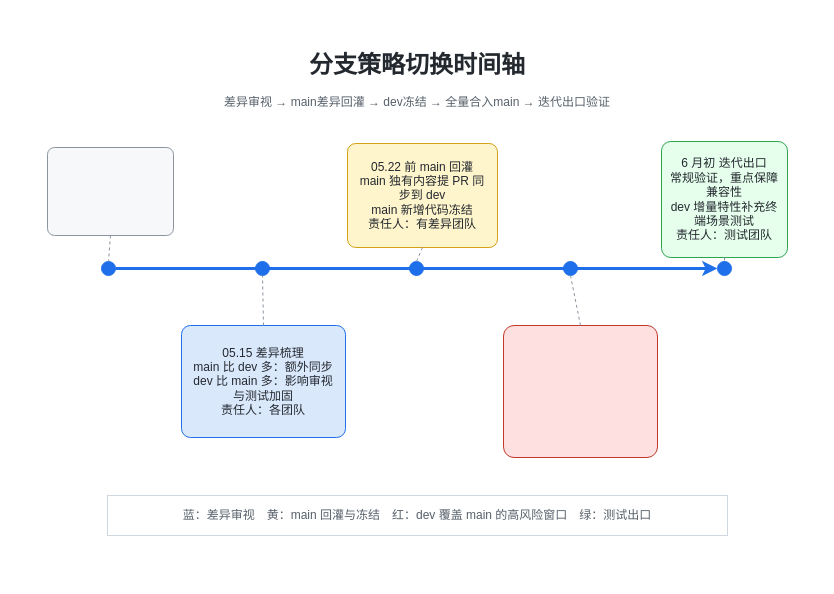
The diagram is 834 pixels wide and 594 high, and some of its shapes have lost their labels. The shapes that lost their labels are listed below. From the top down, each one's centre as x and y in pixels, then its label:
At (110,191): "05.10 前置条件 平台提供双分支 PR 差异查看能力 前端组：王音强".
At (580,391): "05.22 出版本后 dev 冻结 dev 内容全量覆盖到 main 版本号变更并提交 PR 周期：2 天 责任人：内核各仓库 Owner".
